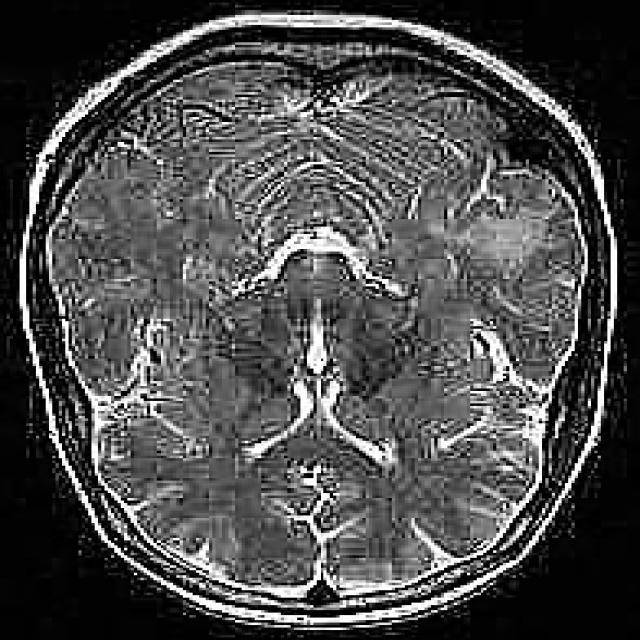notumor: (20, 5, 620, 625)
